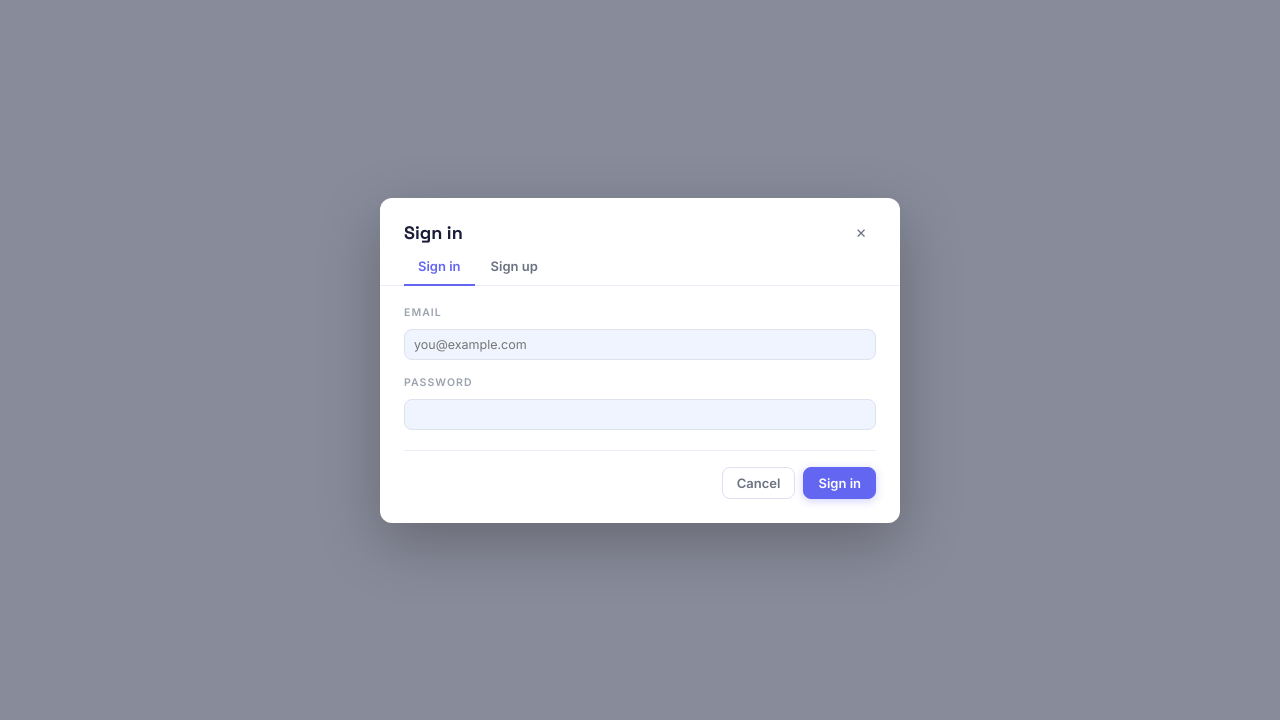
AuthModal › tab switching › clears error message when switching tabs
Step 1. Submit the form, box [380,286,900,522]
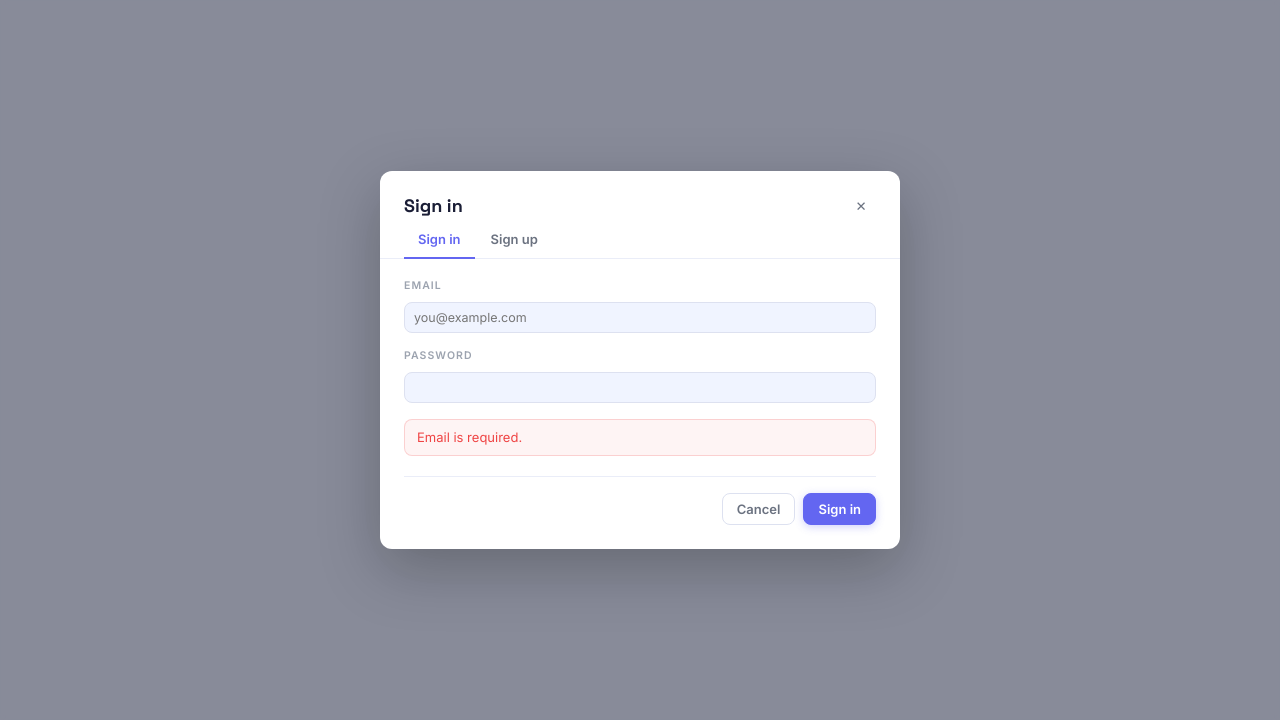
Expected: the message "Email is required." is shown, [404,419,876,456]
Step 2. Click the button "Sign up" → (514, 240), box [477,221,552,259]
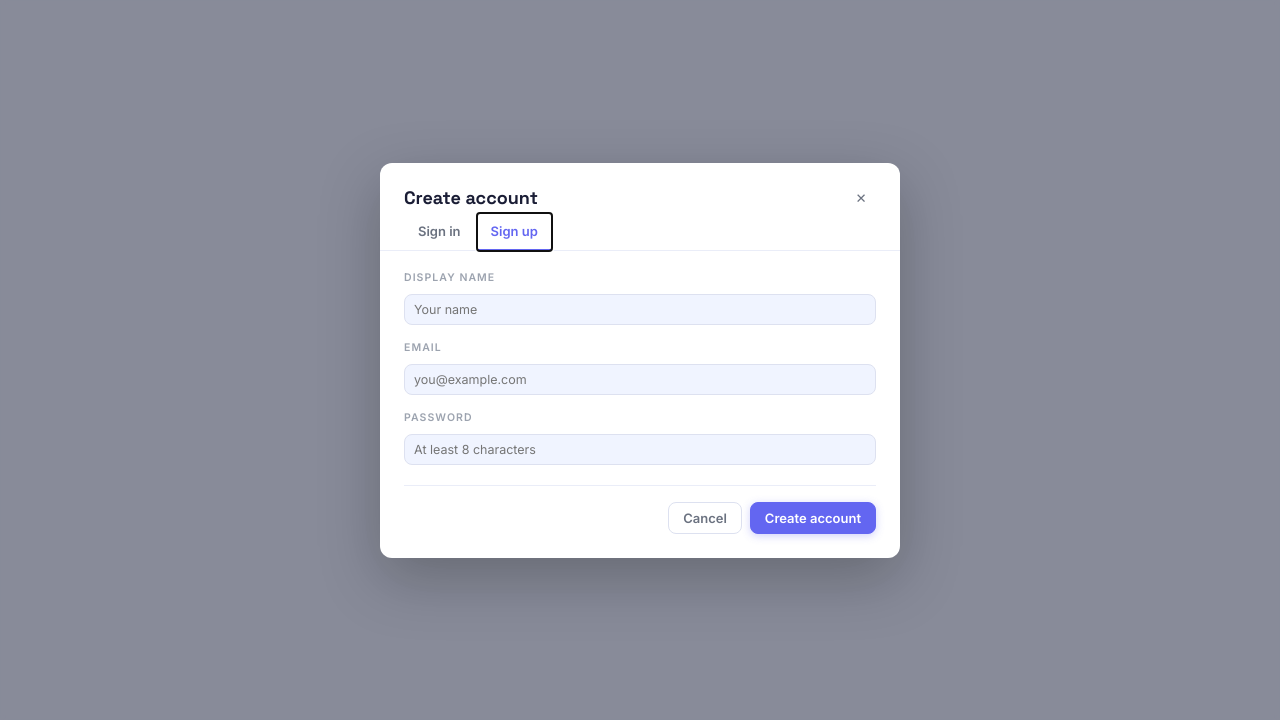
Expected: the message "Email is required." is gone
